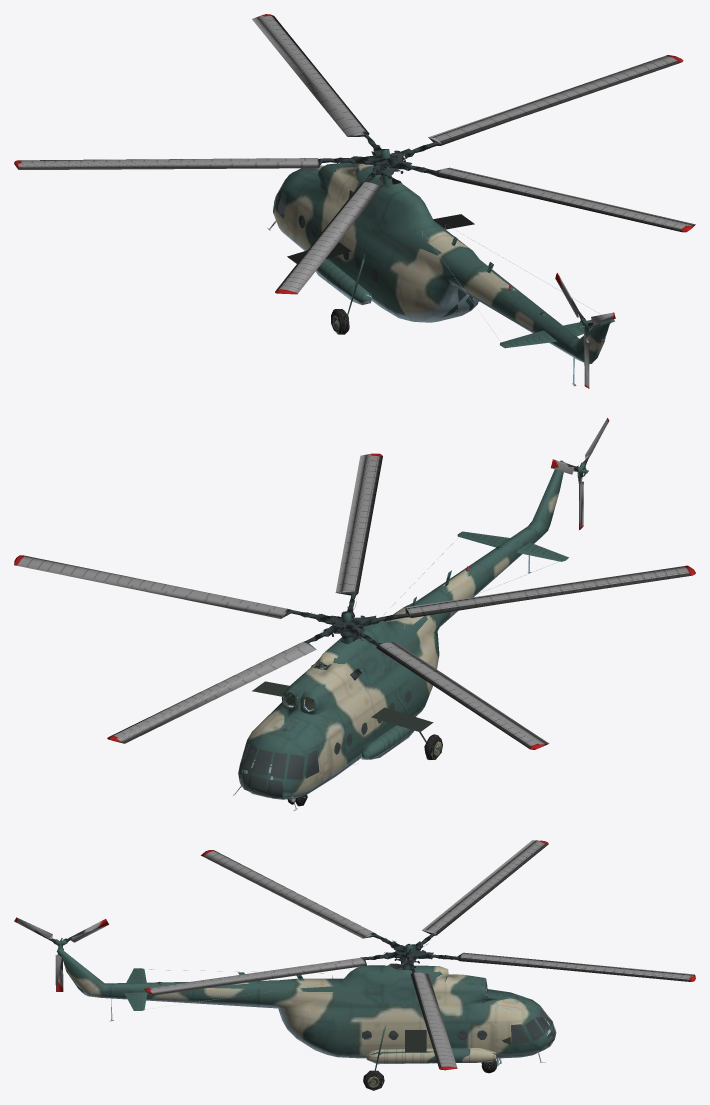
3 renders of one model, top to bottom at view 1: azimuth 30°, elevation 25°; view 2: azimuth 150°, elevation 25°; view 3: azimuth 270°, elevation 25°, orthographic. The views are drawn at different scales.
Visible parts, largest first — view 1: body|sp_03-FACES, rotor|Obj_313-FACES, rotor|Obj_309-FACES, rotor|Obj_311-FACES, rotor|Obj_286-FACES, rotor|Obj_315-FACES, rotor|Obj_285-FACES, body|bak01-FACES; view 2: body|sp_03-FACES, body|glass (×2), rotor|Obj_309-FACES, rotor|Obj_315-FACES, rotor|Obj_286-FACES, rotor|Obj_313-FACES, rotor|Obj_311-FACES, body|kabina-FACES, rotor|Obj_285-FACES, body|bak01-FACES, body|default#truss; view 3: body|sp_03-FACES, rotor|Obj_315-FACES, rotor|Obj_311-FACES, body|glass (×2), rotor|Obj_313-FACES, rotor|Obj_286-FACES, rotor|Obj_309-FACES, body|bak-FACES, rotor|Obj_285-FACES, body|kabina-FACES, body|default#truss.
Part boxes in pixels (x1,y1,x2,y2): body|sp_03-FACES: (273, 162, 611, 364); rotor|Obj_313-FACES: (14, 158, 318, 169); rotor|Obj_309-FACES: (428, 55, 683, 145); rotor|Obj_311-FACES: (252, 14, 369, 136); rotor|Obj_286-FACES: (436, 168, 695, 232); rotor|Obj_315-FACES: (275, 182, 382, 294); rotor|Obj_285-FACES: (318, 134, 449, 182); body|bak01-FACES: (315, 259, 371, 305); body|sp_03-FACES: (238, 460, 563, 799); body|glass (×2): (239, 690, 411, 798); rotor|Obj_309-FACES: (14, 555, 289, 618); rotor|Obj_315-FACES: (406, 565, 695, 617); rotor|Obj_286-FACES: (335, 453, 382, 594); rotor|Obj_313-FACES: (376, 642, 549, 749); rotor|Obj_311-FACES: (107, 642, 316, 743); body|kabina-FACES: (241, 690, 411, 798); rotor|Obj_285-FACES: (281, 591, 410, 647); body|bak01-FACES: (361, 725, 414, 759); body|default#truss: (371, 707, 433, 731); body|sp_03-FACES: (57, 948, 555, 1058); rotor|Obj_315-FACES: (201, 850, 375, 938); rotor|Obj_311-FACES: (459, 952, 695, 981); body|glass (×2): (362, 1006, 556, 1048); rotor|Obj_313-FACES: (422, 840, 548, 935); rotor|Obj_286-FACES: (144, 957, 366, 995); rotor|Obj_309-FACES: (411, 972, 457, 1070); body|bak-FACES: (365, 1048, 496, 1064); rotor|Obj_285-FACES: (360, 930, 462, 974); body|kabina-FACES: (362, 1007, 553, 1044); body|default#truss: (405, 1030, 426, 1052).
Bounding box in the file's own units: 20.19 × 5.91 × 24.96.
Materials: 84 (58 with a texture image).
